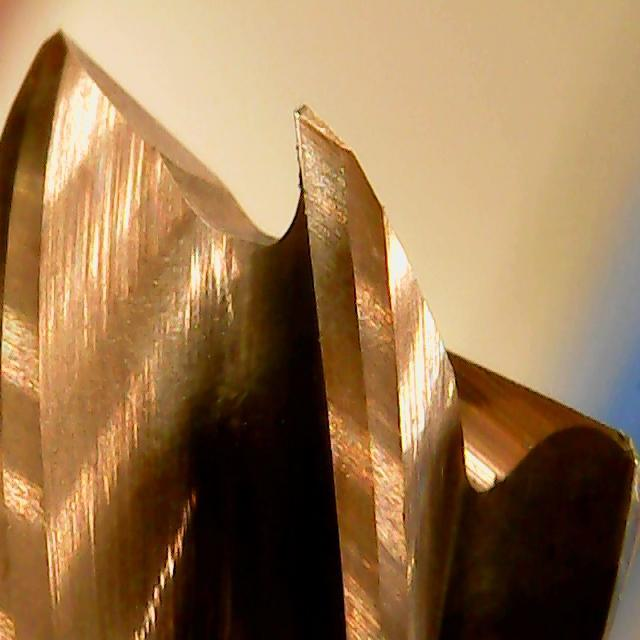Tool-wear-class-1: (291, 103, 373, 362)
